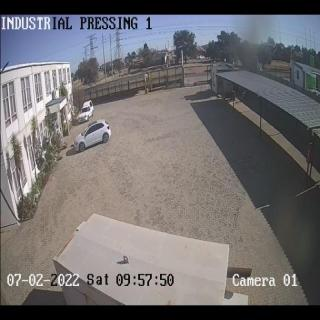car: (73, 118, 110, 150), (79, 101, 93, 120)
